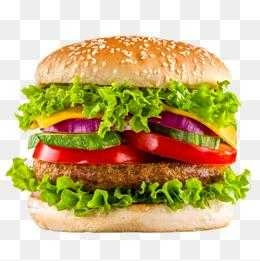hamburger: (19, 38, 248, 236)
